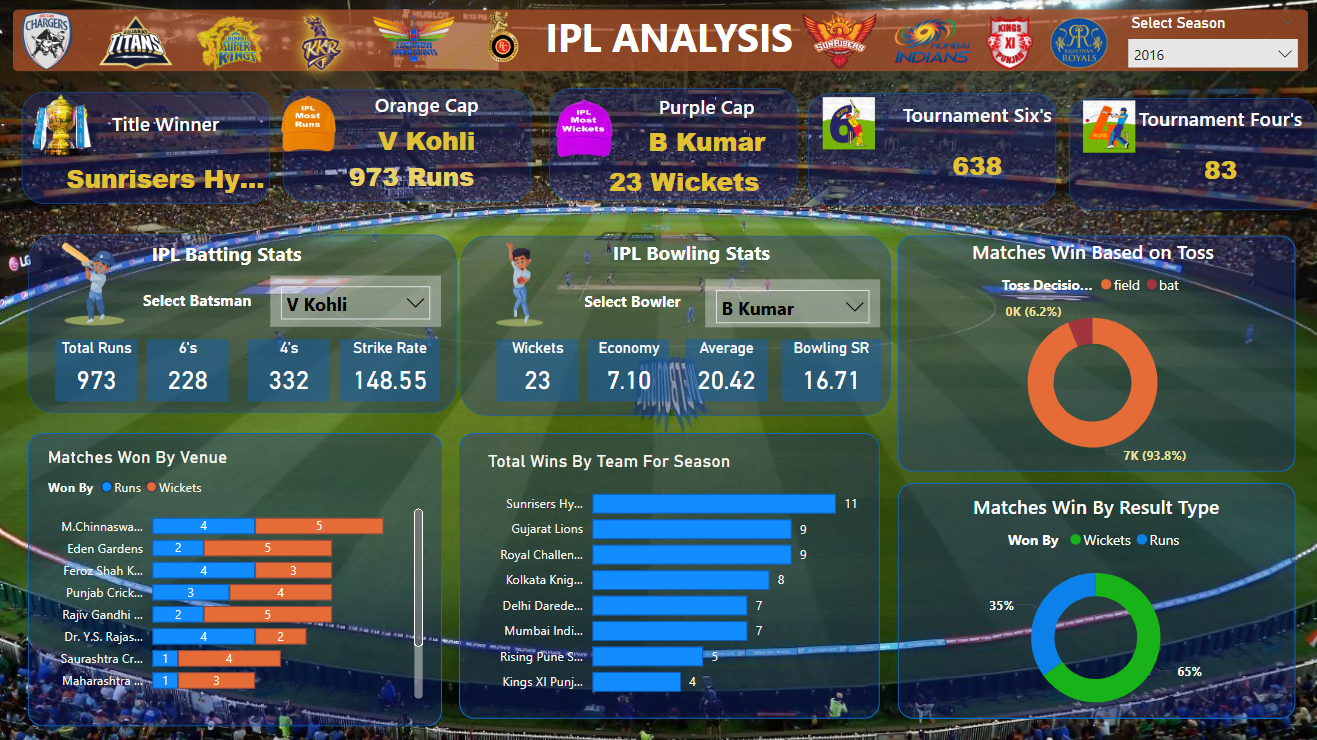

The dashboard page shown, as its layout file describes it:
{"tool":"powerbi","page":{"name":"Page 1","canvas":[1280,720],"ordinal":0},"visuals":[{"type":"shape","box":[274.4,87.8,240.1,108.4],"z":0},{"type":"shape","box":[22,90.6,240.1,108.4],"z":1000},{"type":"card","title":"Title Winner","fields":{"Values":["ipl_matches_2008_2022.Title Winner"]},"box":[59,108.4,203.1,108.4],"z":2000},{"type":"shape","box":[13.7,11,1250.1,60.4],"z":3000},{"type":"textbox","box":[522.8,6.9,279.9,65.9],"z":4000},{"type":"slicer","fields":{"Values":["Calendar Table.Year"]},"box":[1079.9,11,183.9,60.4],"z":5000},{"type":"card","title":"Orange Cap","fields":{"Values":["Min(ipl_ball_by_ball_2008_2022.batter)"]},"box":[311.5,90.6,203.1,71.4],"z":6000},{"type":"card","title":"Orange Cap","fields":{"Values":["ipl_ball_by_ball_2008_2022.runs"]},"box":[296.4,131.7,203.1,85.1],"z":7000},{"type":"shape","box":[531,86.4,240.1,108.4],"z":8000},{"type":"shape","box":[780.8,91.9,240.1,108.4],"z":9000},{"type":"shape","box":[1033.3,96.1,240.1,108.4],"z":10000},{"type":"card","title":"Purple Cap","fields":{"Values":["Min(ipl_ball_by_ball_2008_2022.bowler)"]},"box":[581.8,91.9,203.1,71.4],"z":11000},{"type":"card","title":"Purple Cap","fields":{"Values":["ipl_ball_by_ball_2008_2022.wickets"]},"box":[559.9,142.7,203.1,71.4],"z":12000},{"type":"card","title":"Tournament Six''s","fields":{"Values":["CountNonNull(ipl_ball_by_ball_2008_2022.batsman_run)"]},"box":[828.8,100.2,230.5,96.1],"z":13000},{"type":"card","title":"Tournament Four''s","fields":{"Values":["CountNonNull(ipl_ball_by_ball_2008_2022.batsman_run)"]},"box":[1077.2,104.3,203.1,96.1],"z":14000},{"type":"shape","box":[27.4,227.8,414.4,172.9],"z":15000},{"type":"shape","box":[444.6,229.2,415.8,174.3],"z":16000},{"type":"card","title":"Total Runs","fields":{"Values":["Sum(ipl_ball_by_ball_2008_2022.batsman_run)"]},"box":[54.9,329.3,79.6,60.4],"z":17000},{"type":"card","title":"6''s","fields":{"Values":["Sum(ipl_ball_by_ball_2008_2022.batsman_run)"]},"box":[142.7,329.3,79.6,60.4],"z":18000},{"type":"card","title":"4''s","fields":{"Values":["Sum(ipl_ball_by_ball_2008_2022.batsman_run)"]},"box":[240.1,329.3,79.6,60.4],"z":19000},{"type":"card","title":"Strike Rate","fields":{"Values":["ipl_ball_by_ball_2008_2022.strike rate"]},"box":[329.3,329.3,96.1,60.4],"z":20000},{"type":"textbox","box":[134.5,275.8,161.9,37],"z":21000},{"type":"textbox","box":[587.3,227.8,385.6,35.7],"z":22000},{"type":"textbox","box":[142.7,229.2,194.9,35.7],"z":23000},{"type":"card","title":"Wickets","fields":{"Values":["Sum(ipl_ball_by_ball_2008_2022.iswicket_delivery)"]},"box":[480.3,329.3,79.6,60.4],"z":24000},{"type":"card","title":"Economy","fields":{"Values":["ipl_ball_by_ball_2008_2022.Economy"]},"box":[568.1,329.3,79.6,60.4],"z":25000},{"type":"card","title":"Average","fields":{"Values":["ipl_ball_by_ball_2008_2022.Average"]},"box":[662.8,329.3,79.6,60.4],"z":26000},{"type":"card","title":"Bowling SR","fields":{"Values":["ipl_ball_by_ball_2008_2022.StrikeRate"]},"box":[754.7,329.3,96.1,60.4],"z":27000},{"type":"textbox","box":[559.9,277.2,123.5,41.2],"z":28000},{"type":"slicer","fields":{"Values":["ipl_ball_by_ball_2008_2022.batter"]},"box":[262.1,267.6,164.7,49.4],"z":29000},{"type":"slicer","fields":{"Values":["ipl_ball_by_ball_2008_2022.bowler"]},"box":[682,271.7,168.8,46.7],"z":30000},{"type":"shape","box":[27.3,419.7,400,283.3],"z":31000},{"type":"shape","box":[443.9,419.7,406.1,275.8],"z":32000},{"type":"shape","box":[867.2,229.2,384,228],"z":33001},{"type":"donutChart","title":"Matches Win Based on Toss","fields":{"Y":["ipl_matches_2008_2022.Toss Winner"],"Category":["ipl_matches_2008_2022.toss_decision"]},"box":[860.4,231.9,391.1,225],"z":33002},{"type":"shape","box":[867.2,467.9,384.2,227.8],"z":33003},{"type":"donutChart","title":"Matches Win By Result Type","fields":{"Category":["ipl_matches_2008_2022.won_by"],"Y":["CountNonNull(ipl_matches_2008_2022.id)"]},"box":[872.7,477.5,373.2,225],"z":33004},{"type":"barChart","title":"Matches Won By Venue","fields":{"Series":["ipl_matches_2008_2022.won_by"],"Y":["CountNonNull(ipl_matches_2008_2022.winning_team)"],"Category":["ipl_matches_2008_2022.venue"]},"box":[42.5,433.6,371.9,248.4],"z":33005},{"type":"barChart","title":"Total Wins By Team For Season","fields":{"Category":["ipl_matches_2008_2022.winning_team"],"Y":["CountNonNull(ipl_matches_2008_2022.winning_team)"]},"box":[466.6,436.4,371.9,248.4],"z":33006},{"type":"image","box":[13.7,86.4,97.4,75.5],"z":33007},{"type":"image","box":[531,86.4,68.6,78.2],"z":33008},{"type":"image","box":[264.9,85.1,67.6,71.6],"z":33009},{"type":"image","box":[1033.3,94.7,76.8,60.4],"z":33010},{"type":"image","box":[790.4,89.2,60.4,63.1],"z":33011},{"type":"image","box":[432.2,204.5,141.3,145.5],"z":33012},{"type":"image","box":[22,209.9,138.6,131.7],"z":33013},{"type":"image","box":[13.7,8.2,65.9,65.9],"z":33014},{"type":"image","box":[91.9,0,81,85.1],"z":33015},{"type":"image","box":[182.5,0,81,86.4],"z":33016},{"type":"image","box":[264.8,0,91.9,87.8],"z":33017},{"type":"image","box":[355.4,0,89.2,78.2],"z":33018},{"type":"image","box":[857.6,0,86.4,79.6],"z":33019},{"type":"image","box":[948.2,12.3,54.9,61.7],"z":33020},{"type":"image","box":[452.8,6.9,67.2,59],"z":33021},{"type":"image","box":[1003.1,0,76.8,87.8],"z":33022},{"type":"image","box":[771.2,0,81,82.3],"z":33023}]}

Visuals, with their boxes in screenshot pixels (x1, y1, x2, y2), scaled from the page's 1280x720 canvas onto the 1317x740 screenshot:
shape: crop(282, 90, 529, 202)
shape: crop(23, 93, 270, 205)
"Title Winner" card: crop(61, 111, 270, 223)
shape: crop(14, 11, 1300, 73)
textbox: crop(538, 7, 826, 75)
slicer - Calendar Table.Year: crop(1111, 11, 1300, 73)
"Orange Cap" card: crop(321, 93, 529, 166)
"Orange Cap" card: crop(305, 135, 514, 223)
shape: crop(546, 89, 793, 200)
shape: crop(803, 94, 1050, 206)
shape: crop(1063, 99, 1310, 210)
"Purple Cap" card: crop(599, 94, 808, 168)
"Purple Cap" card: crop(576, 147, 785, 220)
"Tournament Six''s" card: crop(853, 103, 1090, 202)
"Tournament Four''s" card: crop(1108, 107, 1316, 206)
shape: crop(28, 234, 455, 412)
shape: crop(457, 236, 885, 415)
"Total Runs" card: crop(56, 338, 138, 401)
"6''s" card: crop(147, 338, 229, 401)
"4''s" card: crop(247, 338, 329, 401)
"Strike Rate" card: crop(339, 338, 438, 401)
textbox: crop(138, 283, 305, 321)
textbox: crop(604, 234, 1001, 271)
textbox: crop(147, 236, 347, 272)
"Wickets" card: crop(494, 338, 576, 401)
"Economy" card: crop(585, 338, 666, 401)
"Average" card: crop(682, 338, 764, 401)
"Bowling SR" card: crop(777, 338, 875, 401)
textbox: crop(576, 285, 703, 327)
slicer - ipl_ball_by_ball_2008_2022.batter: crop(270, 275, 439, 326)
slicer - ipl_ball_by_ball_2008_2022.bowler: crop(702, 279, 875, 327)
shape: crop(28, 431, 440, 723)
shape: crop(457, 431, 875, 715)
shape: crop(892, 236, 1287, 470)
"Matches Win Based on Toss" donutChart: crop(885, 238, 1288, 470)
shape: crop(892, 481, 1288, 715)
"Matches Win By Result Type" donutChart: crop(898, 491, 1282, 722)
"Matches Won By Venue" barChart: crop(44, 446, 426, 701)
"Total Wins By Team For Season" barChart: crop(480, 449, 863, 704)
image: crop(14, 89, 114, 166)
image: crop(546, 89, 617, 169)
image: crop(273, 87, 342, 161)
image: crop(1063, 97, 1142, 159)
image: crop(813, 92, 875, 157)
image: crop(445, 210, 590, 360)
image: crop(23, 216, 165, 351)
image: crop(14, 8, 82, 76)
image: crop(95, 0, 178, 87)
image: crop(188, 0, 271, 89)
image: crop(272, 0, 367, 90)
image: crop(366, 0, 457, 80)
image: crop(882, 0, 971, 82)
image: crop(976, 13, 1032, 76)
image: crop(466, 7, 535, 68)
image: crop(1032, 0, 1111, 90)
image: crop(793, 0, 877, 85)
